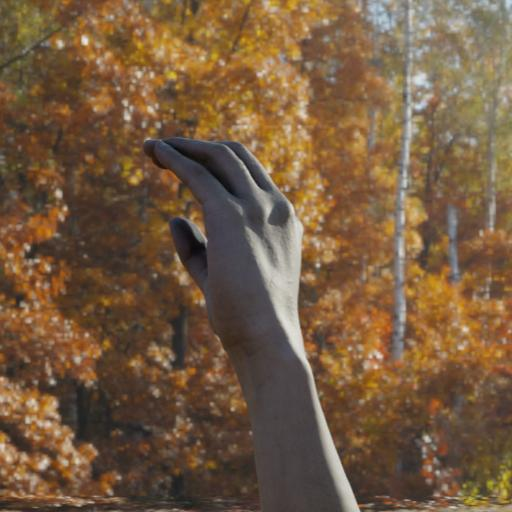C: (131, 130, 321, 365)
